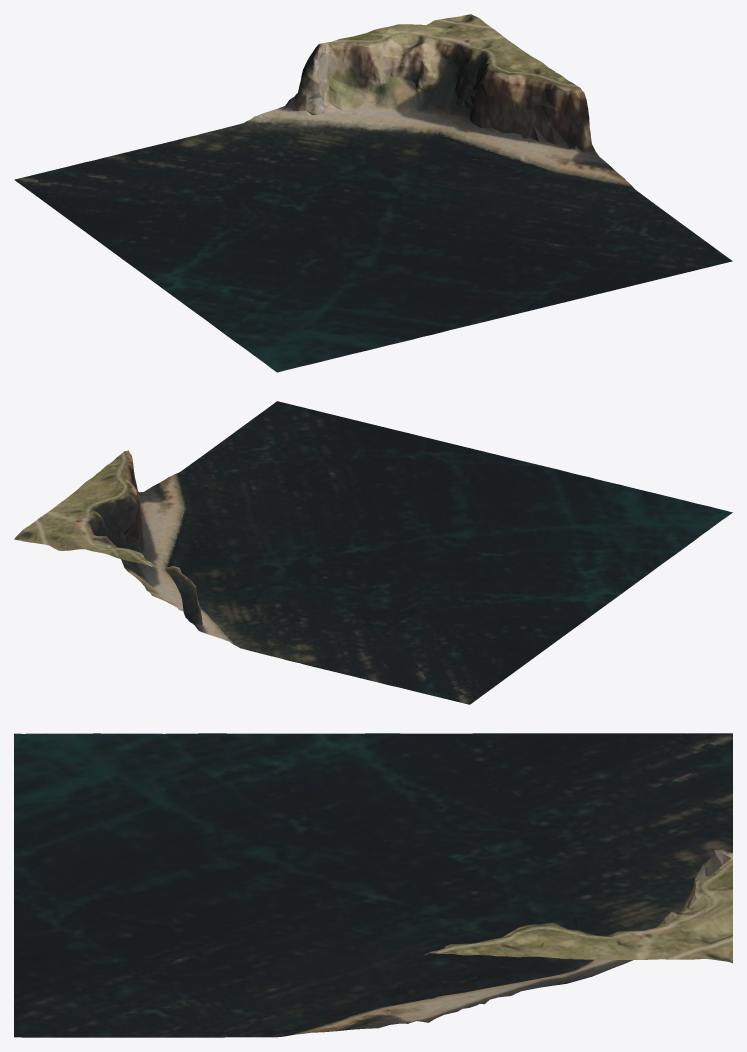
3 views of the same model, one above another, from view 1: azimuth 30°, elevation 25°; view 2: azimuth 150°, elevation 25°; view 3: azimuth 270°, elevation 25° (orthographic). The views are drawn at different scales.
Bounding box in the file's own units: 418 × 54.8 × 418.
3 materials, 3 textured.
